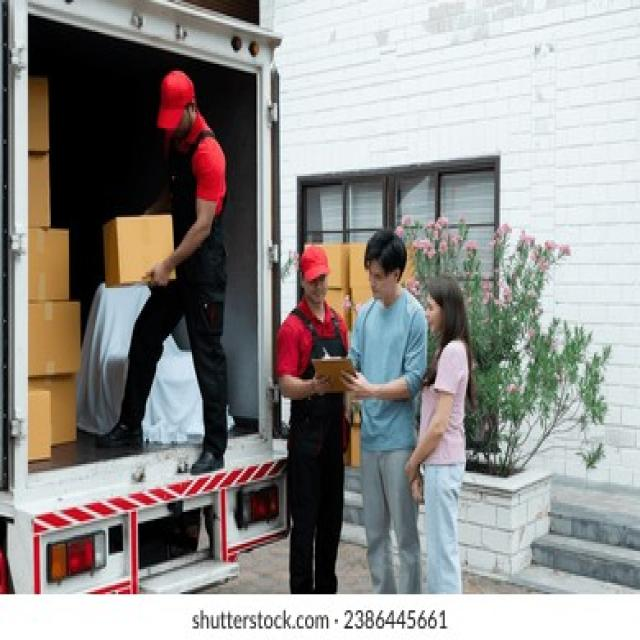truck: (0, 0, 290, 591)
